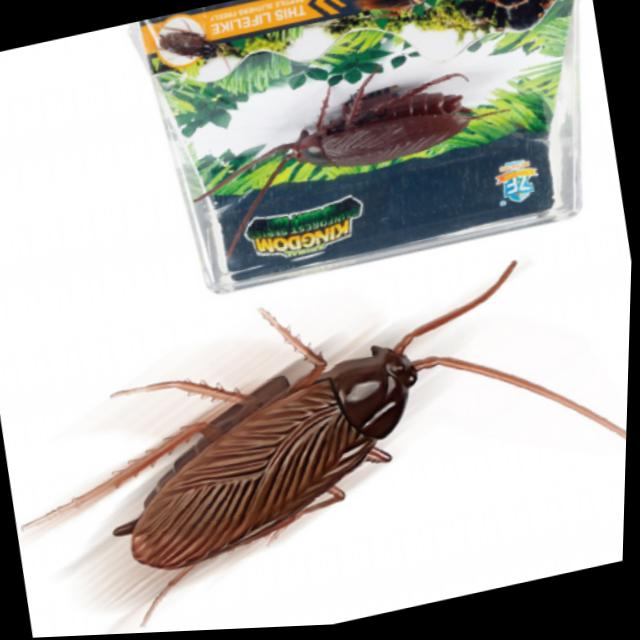Cockroach: (0, 229, 634, 640)
